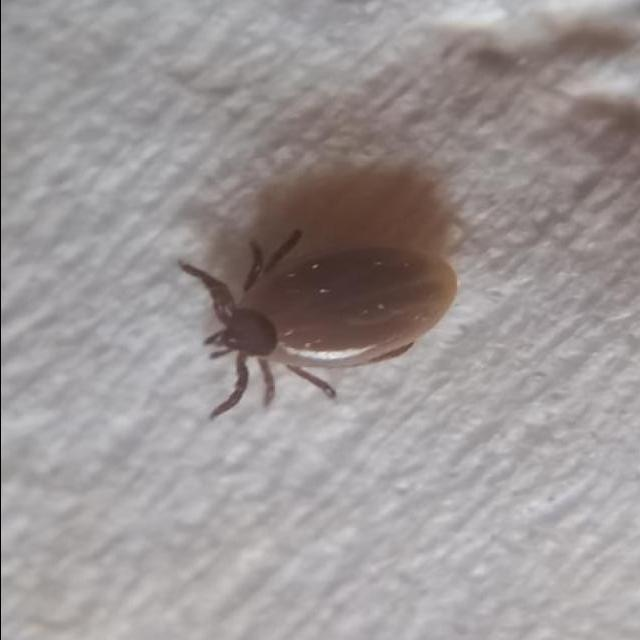Ixodes Ricinus-F-Fed: (180, 228, 461, 417)
